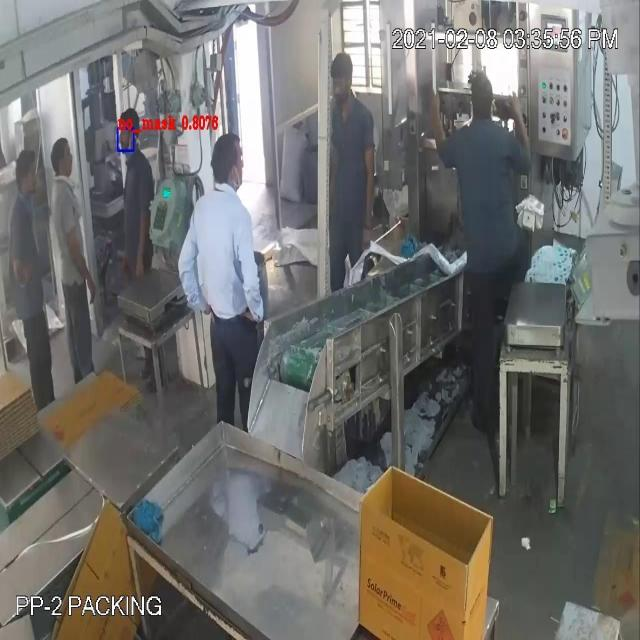No_Gloves: (22, 69, 519, 276)
